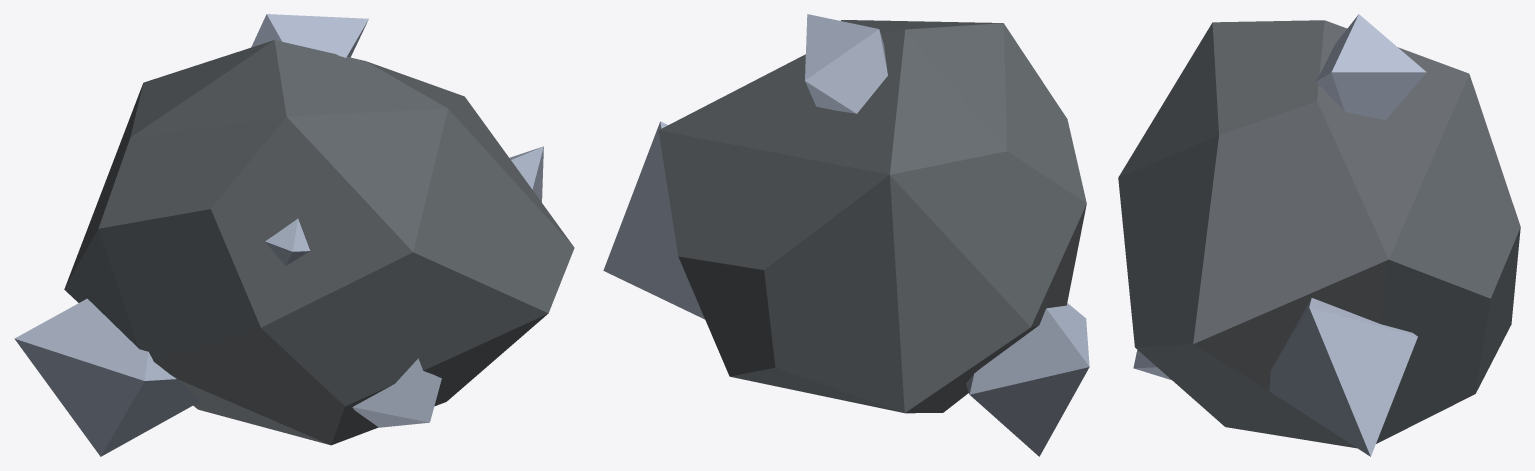
The model's file is Ore_Shatter_Animated.fbx.
The picture shows the model from 3 angles, left to right: view 1: azimuth 30°, elevation 25°; view 2: azimuth 150°, elevation 25°; view 3: azimuth 270°, elevation 25°; orthographic projection. The views are drawn at different scales.
Parts seen in each view (by area): view 1: Ore_fracturepart5, Ore_fracturepart2, Ore_fracturepart3, Ore, Ore_fracturepart6, Ore_fracturepart1, Ore_fracturepart7, Ore_fracturepart4; view 2: Ore_fracturepart7, Ore, Ore_fracturepart1, Ore_fracturepart5, Ore_fracturepart3, Ore_fracturepart4, Ore_fracturepart2; view 3: Ore_fracturepart3, Ore, Ore_fracturepart4, Ore_fracturepart5, Ore_fracturepart7, Ore_fracturepart6, Ore_fracturepart1.
Boxes of the visible parts, left/top/right/bottom form: Ore_fracturepart5: left=136, top=40, right=397, bottom=274; Ore_fracturepart2: left=90, top=185, right=350, bottom=376; Ore_fracturepart3: left=343, top=57, right=574, bottom=323; Ore: left=14, top=14, right=543, bottom=456; Ore_fracturepart6: left=288, top=274, right=535, bottom=426; Ore_fracturepart1: left=71, top=78, right=373, bottom=384; Ore_fracturepart7: left=64, top=208, right=354, bottom=435; Ore_fracturepart4: left=194, top=382, right=468, bottom=445; Ore_fracturepart7: left=699, top=175, right=1059, bottom=413; Ore: left=603, top=14, right=1089, bottom=456; Ore_fracturepart1: left=809, top=135, right=1073, bottom=306; Ore_fracturepart5: left=827, top=21, right=1066, bottom=158; Ore_fracturepart3: left=658, top=20, right=897, bottom=216; Ore_fracturepart4: left=672, top=215, right=952, bottom=412; Ore_fracturepart2: left=1054, top=119, right=1086, bottom=305; Ore_fracturepart3: left=1118, top=79, right=1463, bottom=388; Ore: left=1133, top=14, right=1426, bottom=456; Ore_fracturepart4: left=1205, top=261, right=1516, bottom=448; Ore_fracturepart5: left=1130, top=20, right=1452, bottom=157; Ore_fracturepart7: left=1454, top=117, right=1520, bottom=270; Ore_fracturepart6: left=1146, top=357, right=1260, bottom=408; Ore_fracturepart1: left=1442, top=67, right=1483, bottom=145.
Size of the model in its own units: 192 by 143 by 132.
